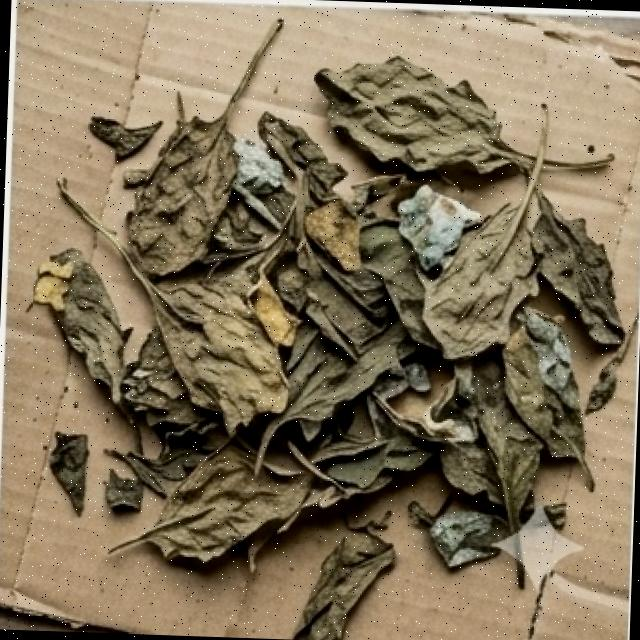rotten spinach: (4, 7, 640, 640)
